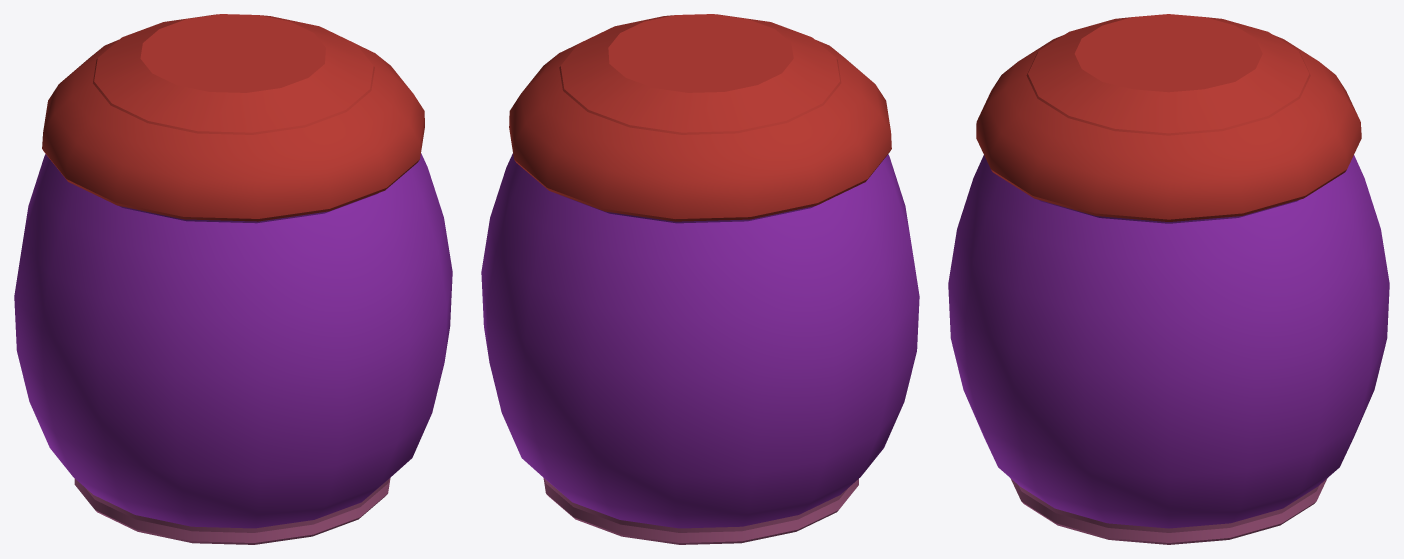
Rendered from Container_Style_08.fbx.
The picture shows the model from 3 angles, left to right: view 1: azimuth 30°, elevation 25°; view 2: azimuth 150°, elevation 25°; view 3: azimuth 270°, elevation 25°; orthographic projection.
Parts seen in each view (by area): view 1: SetA_Container_Style_08; view 2: SetA_Container_Style_08; view 3: SetA_Container_Style_08.
Part boxes in pixels (<box>): SetA_Container_Style_08: <box>14,14,452,544</box>; SetA_Container_Style_08: <box>481,14,919,544</box>; SetA_Container_Style_08: <box>948,14,1389,544</box>.
Bounding box in the file's own units: 0.2477 × 0.2634 × 0.2477.
